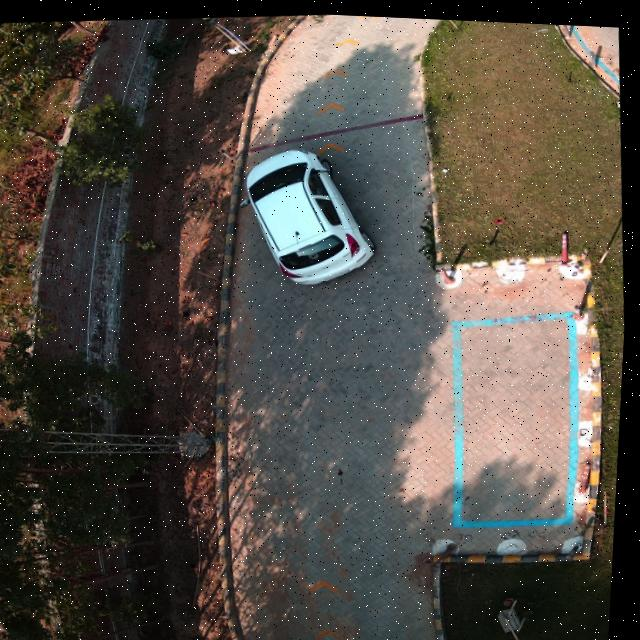car: (248, 143, 378, 280)
